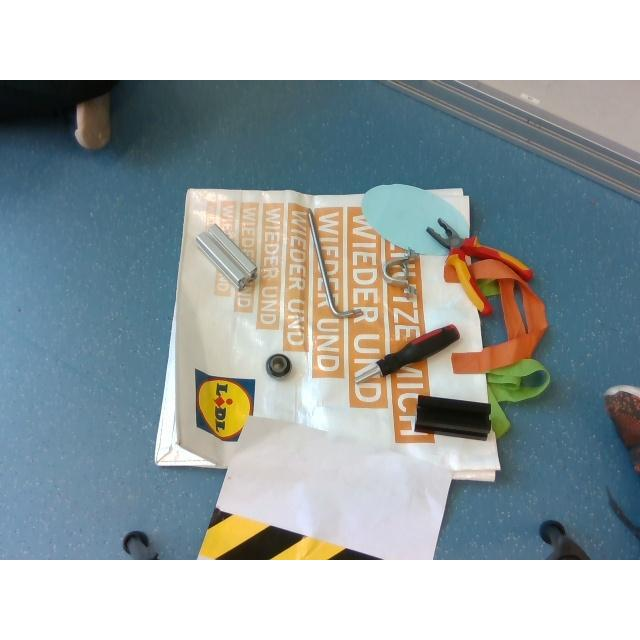AllenKey: (306, 208, 364, 320)
Bearing2: (266, 354, 290, 378)
Housing: (382, 248, 416, 296)
S40_40_B: (414, 396, 490, 440)
S40_40_G: (196, 224, 256, 288)
